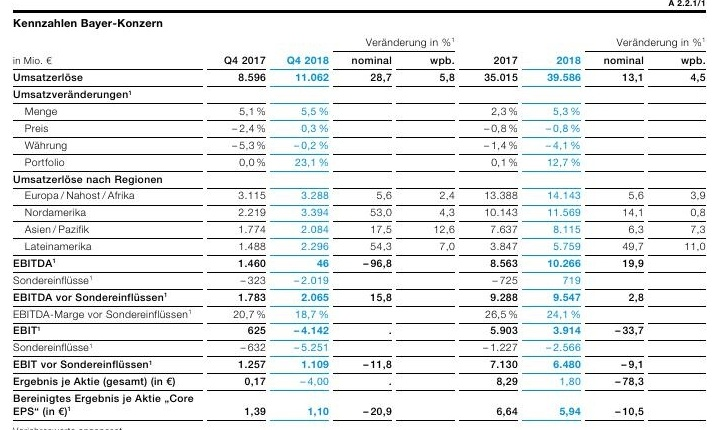table: (0, 0, 724, 430)
